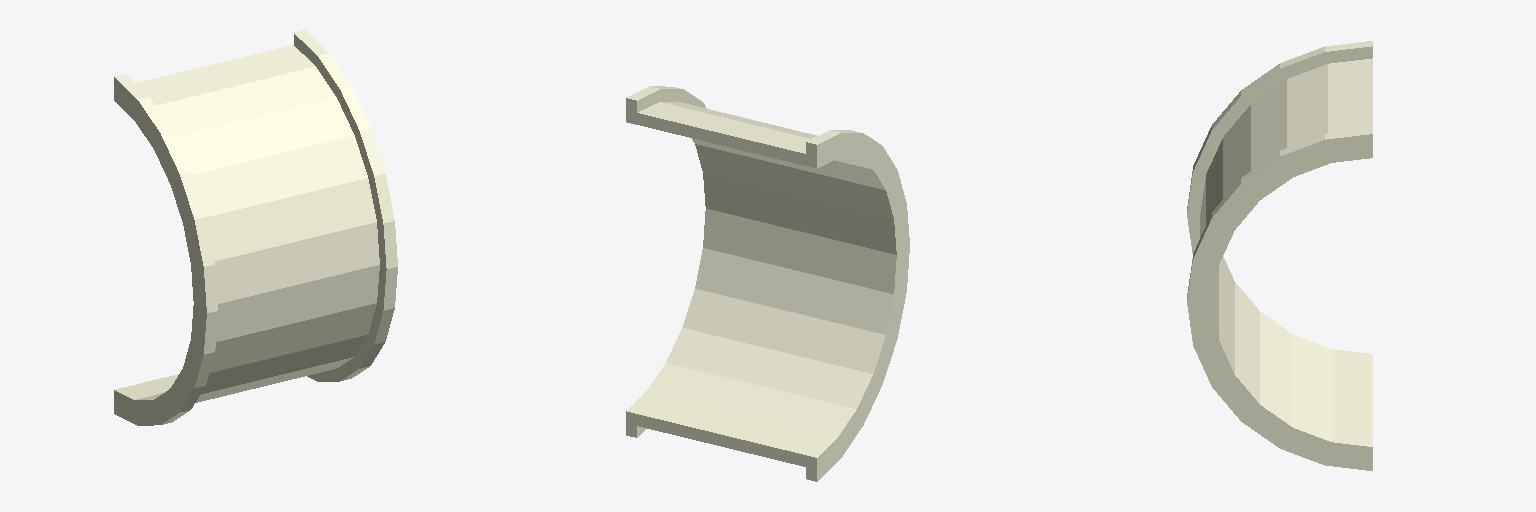
The model's file is section_026.obj.
3 renders of one model, left to right at view 1: azimuth 30°, elevation 25°; view 2: azimuth 150°, elevation 25°; view 3: azimuth 270°, elevation 25°, orthographic.
Size of the model in its own units: 16.61 by 28 by 14.